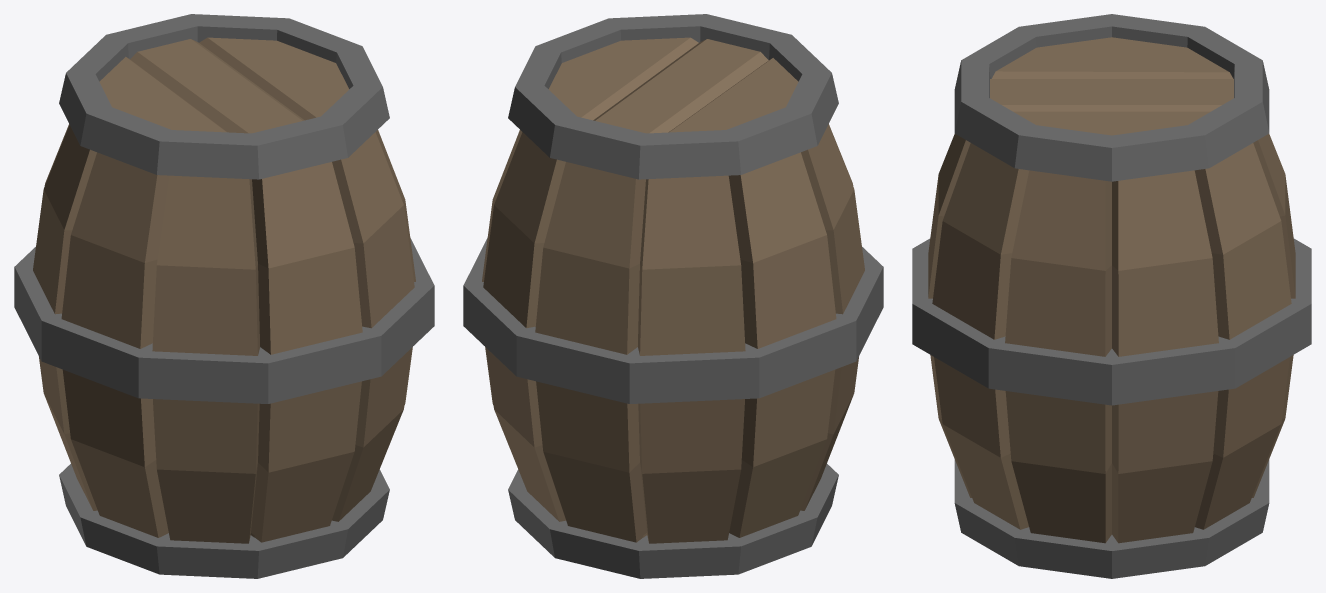
File: wood_barrel.FBX
The picture shows the model from 3 angles, left to right: view 1: azimuth 30°, elevation 25°; view 2: azimuth 150°, elevation 25°; view 3: azimuth 270°, elevation 25°; orthographic projection.
Parts seen in each view (by area): view 1: wood_barrel; view 2: wood_barrel; view 3: wood_barrel.
Boxes of the visible parts, box(x1,y1,x2,y2) form: wood_barrel: box(14, 14, 434, 578); wood_barrel: box(463, 14, 883, 578); wood_barrel: box(912, 14, 1311, 578).
Bounding box in the file's own units: 0.9283 × 1.05 × 0.8829.
